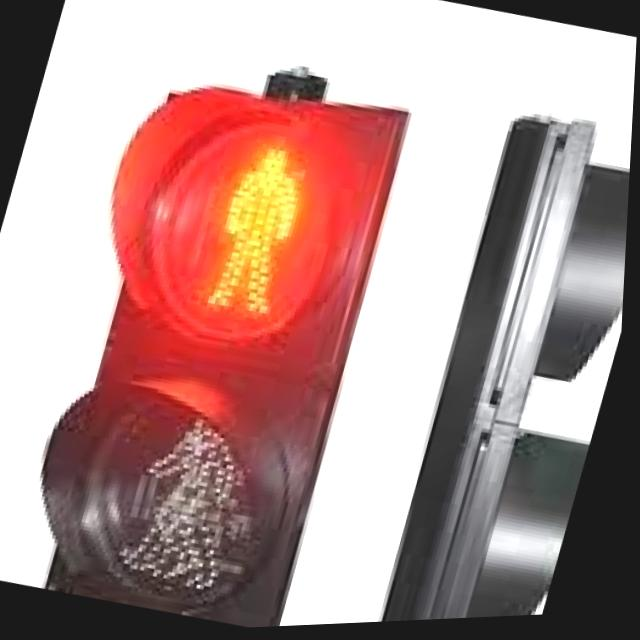red_light: (182, 124, 336, 323)
